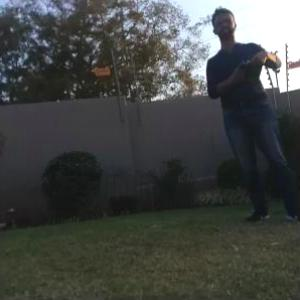follow: (201, 0, 300, 229)
